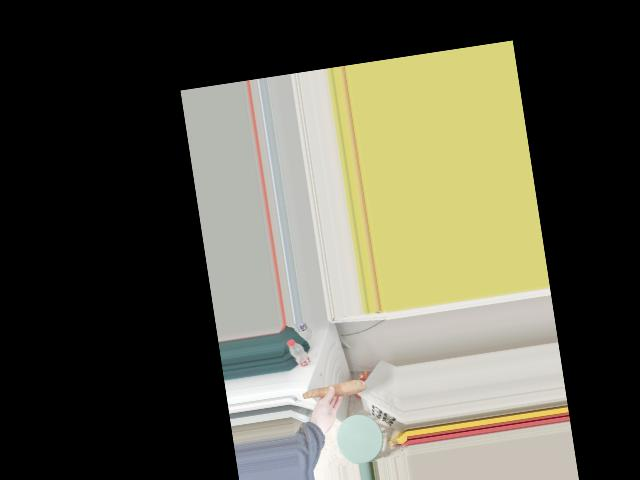sweet_potato: (300, 377, 366, 407)
